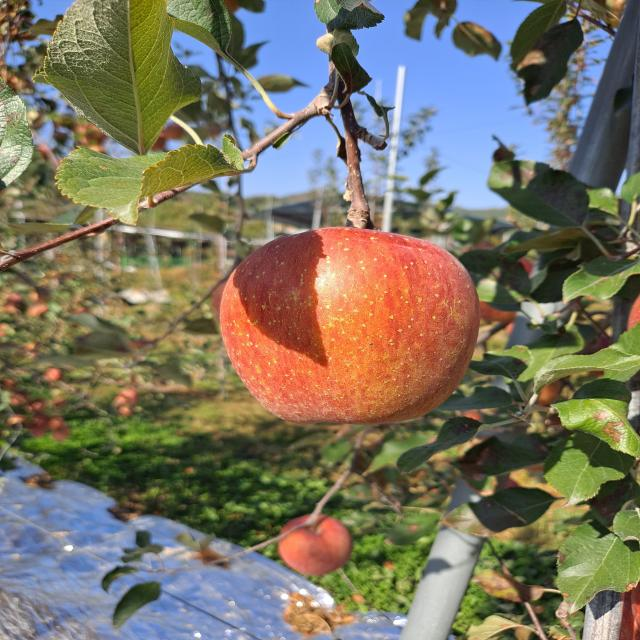fresh: (209, 224, 490, 429)
